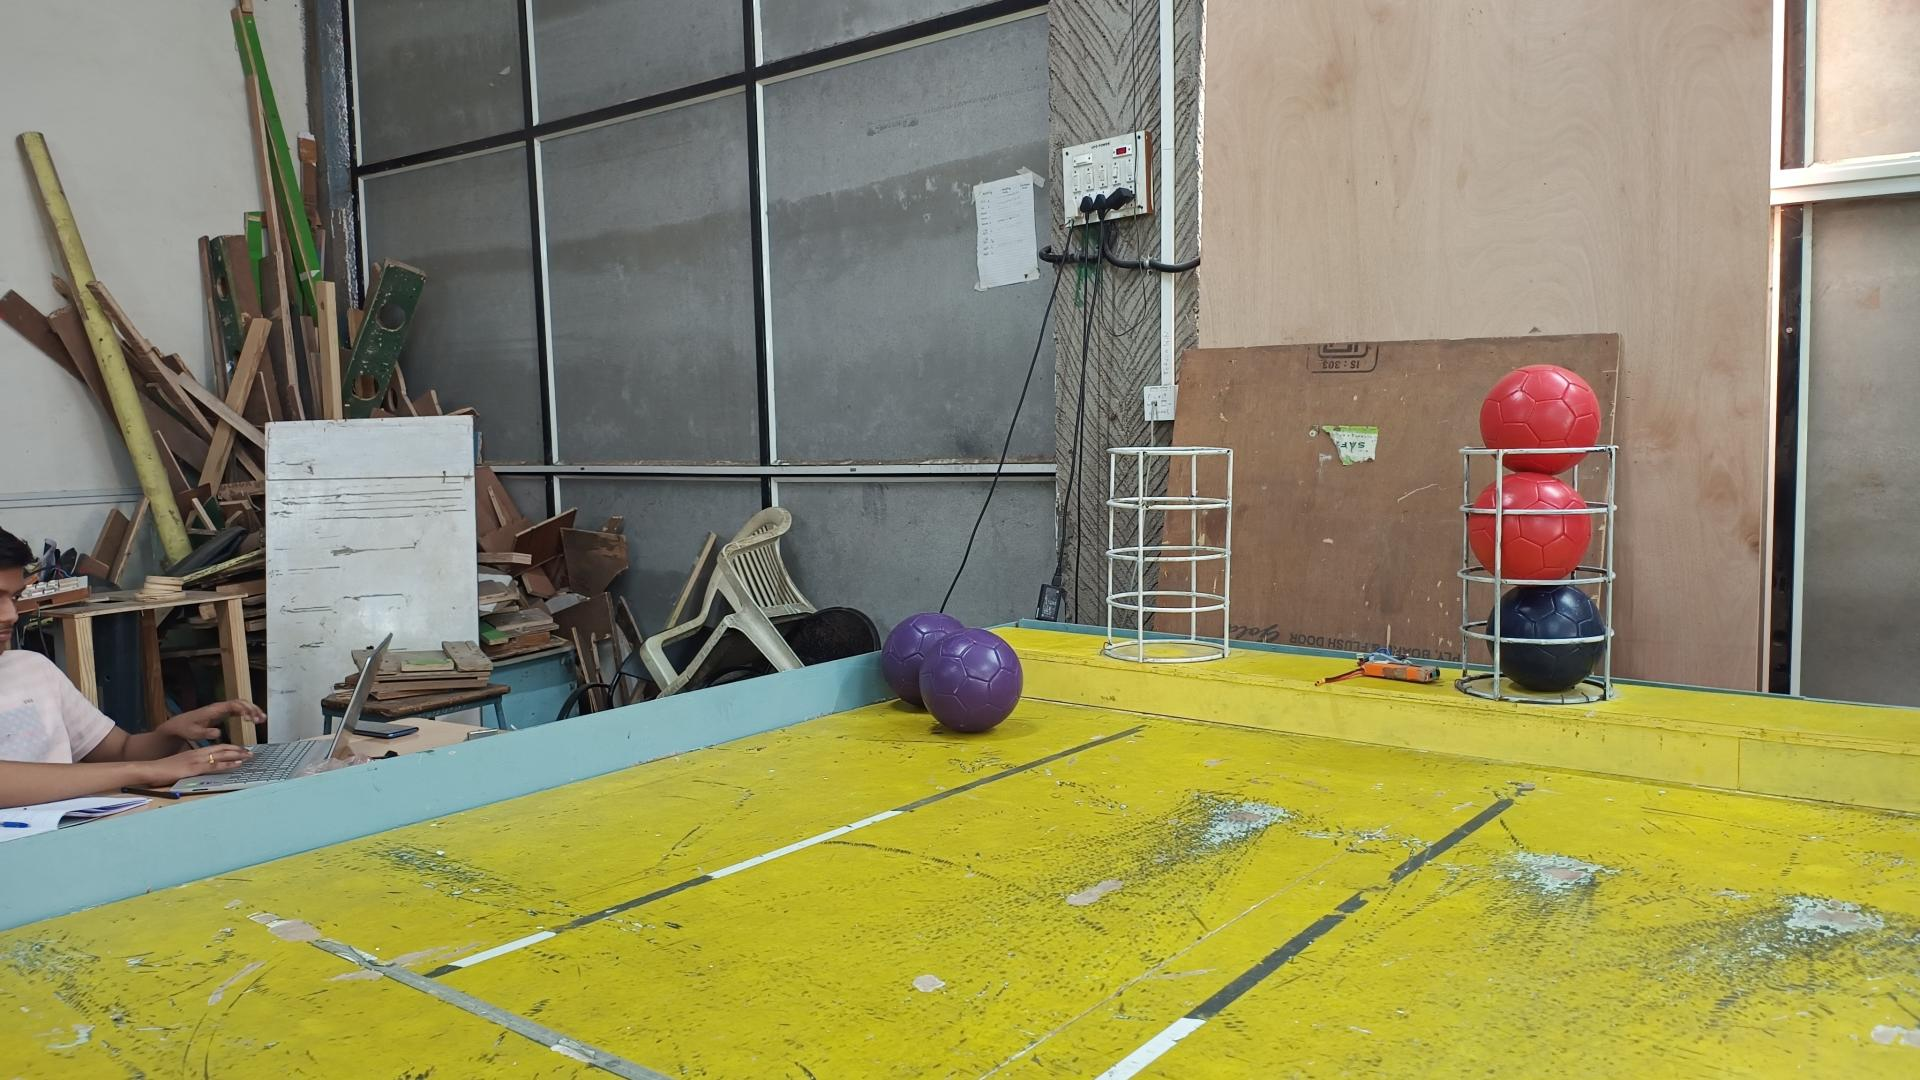dhoka: (1485, 585, 1605, 694)
laale: (1466, 472, 1594, 582), (1481, 364, 1601, 472)
